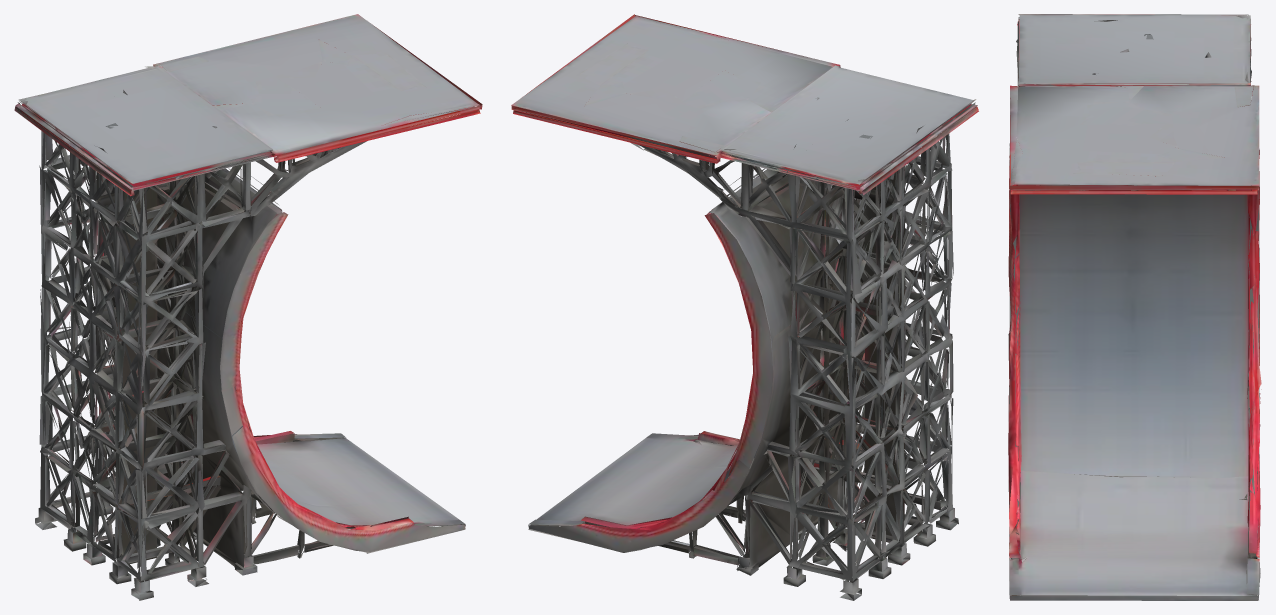
File: ramp_landmark.glb
The picture shows the model from 3 angles, left to right: view 1: azimuth 30°, elevation 25°; view 2: azimuth 150°, elevation 25°; view 3: azimuth 270°, elevation 25°; orthographic projection.
Parts seen in each view (by area): view 1: ramp; view 2: ramp; view 3: ramp.
Part boxes in pixels (x1,y1,x2,y2): ramp: (14, 14, 482, 600); ramp: (511, 14, 978, 600); ramp: (1008, 14, 1261, 600).
Bounding box in the file's own units: 0.7311 × 0.8652 × 0.4574.
1 material, 1 textured.
